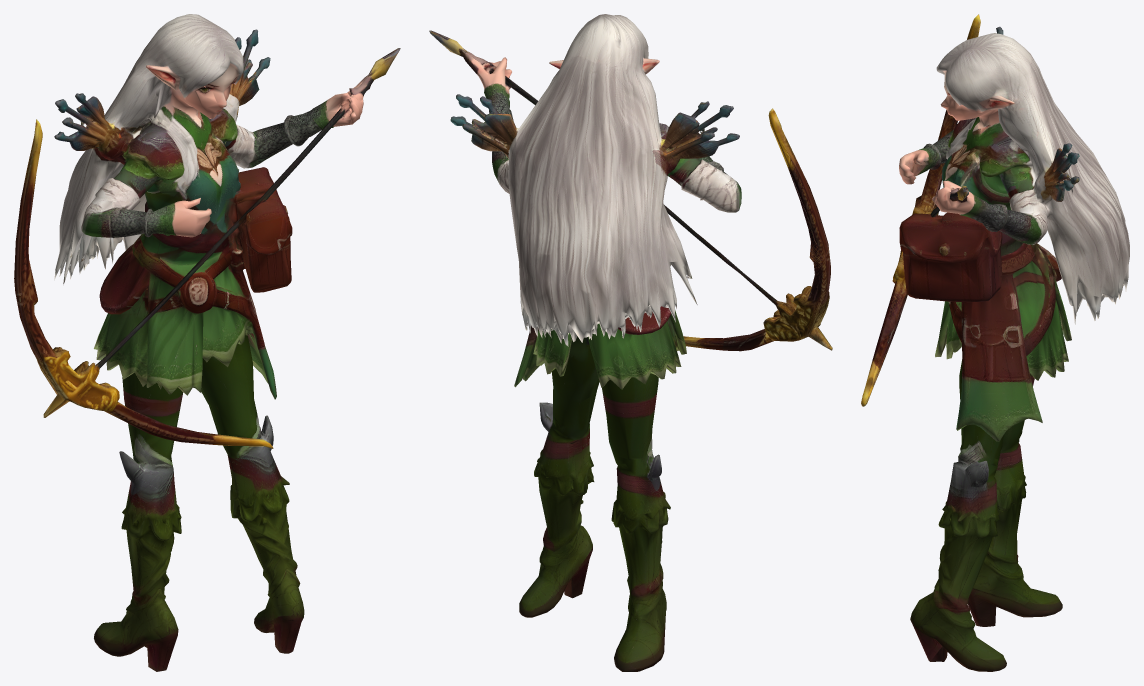
The model's file is faelyn.glb.
3 views of the same model, side by side, from view 1: azimuth 30°, elevation 25°; view 2: azimuth 150°, elevation 25°; view 3: azimuth 270°, elevation 25° (orthographic). The views are drawn at different scales.
Size of the model in its own units: 1.24 by 1.91 by 0.7683.
Materials: 1 (1 with a texture image).
